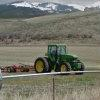Tractor: (31, 34, 89, 82)
